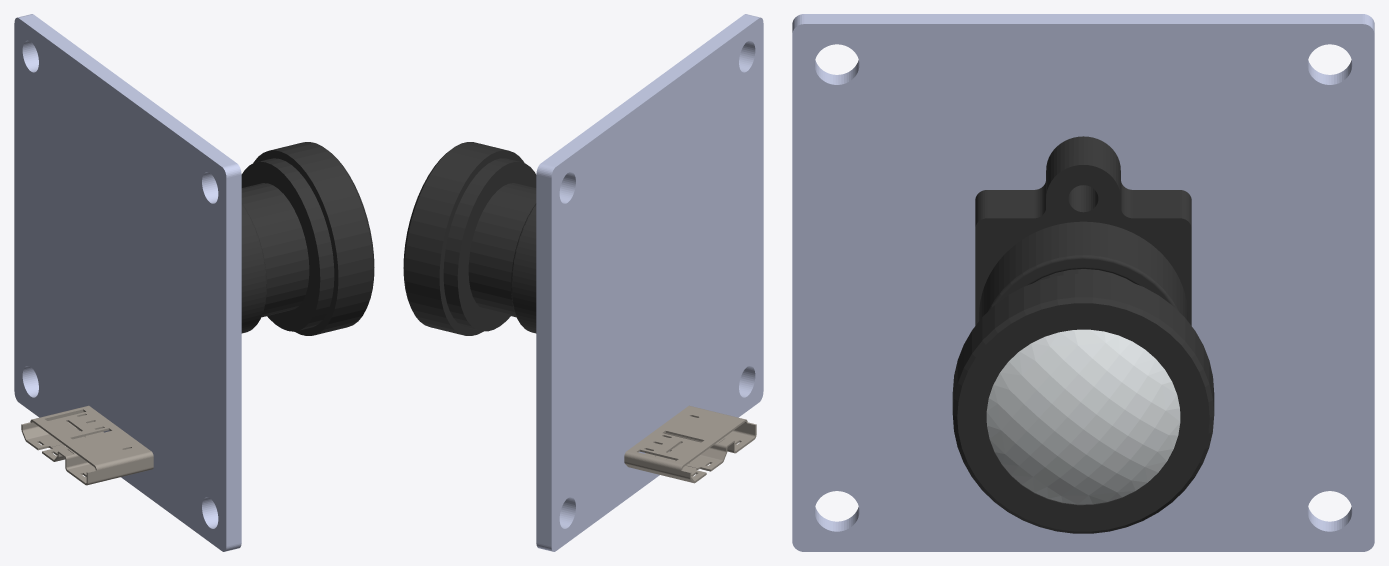
The model's file is camera_new.dae.
3 views of the same model, side by side, from view 1: azimuth 30°, elevation 25°; view 2: azimuth 150°, elevation 25°; view 3: azimuth 270°, elevation 25° (orthographic). The views are drawn at different scales.
Parts seen in each view (by area): view 1: oCam-5CRO-U (Version 16A), Part4^oCam-5CRO-U (Version 16A), USB-3-0-Type-Micro-B-Plug-Shield, oCam-5CRO-U Lens Adapter; view 2: oCam-5CRO-U (Version 16A), Part4^oCam-5CRO-U (Version 16A), USB-3-0-Type-Micro-B-Plug-Shield, oCam-5CRO-U Lens Adapter; view 3: oCam-5CRO-U (Version 16A), Part4^oCam-5CRO-U (Version 16A), oCam-5CRO-U Lens Adapter.
Boxes of the visible parts, x1,y1,x2,y2 form: oCam-5CRO-U (Version 16A): (14,14,241,551); Part4^oCam-5CRO-U (Version 16A): (241,142,374,335); USB-3-0-Type-Micro-B-Plug-Shield: (21,405,153,485); oCam-5CRO-U Lens Adapter: (241,203,266,333); oCam-5CRO-U (Version 16A): (536,14,763,551); Part4^oCam-5CRO-U (Version 16A): (403,142,536,335); USB-3-0-Type-Micro-B-Plug-Shield: (624,405,756,483); oCam-5CRO-U Lens Adapter: (511,203,536,333); oCam-5CRO-U (Version 16A): (792,14,1374,551); Part4^oCam-5CRO-U (Version 16A): (952,269,1214,533); oCam-5CRO-U Lens Adapter: (975,136,1191,325).
Bounding box in the file's own units: 0.031 × 0.039 × 0.039.
